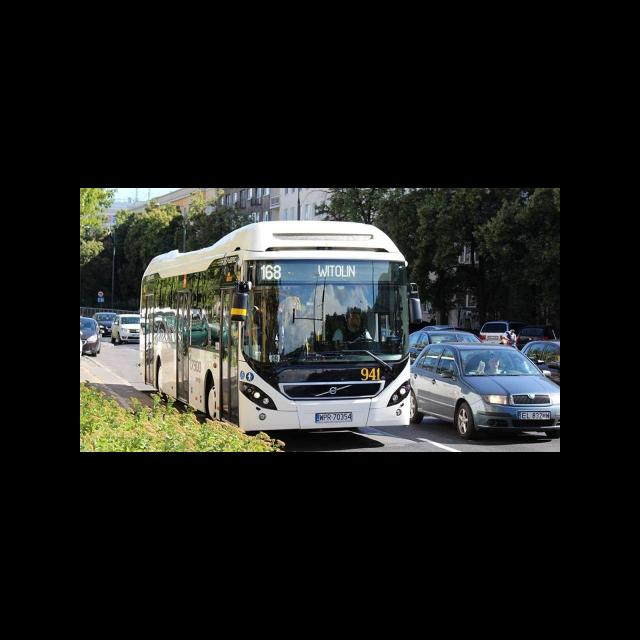Bus: (139, 220, 420, 431)
